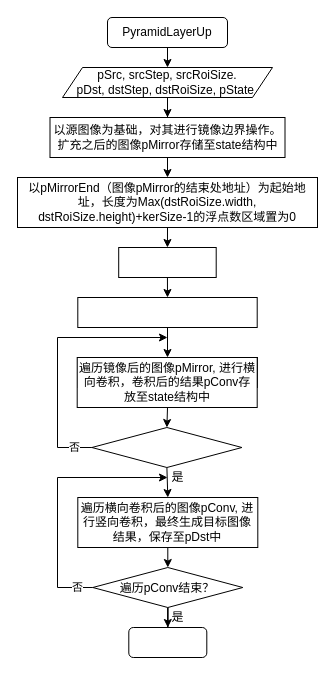
The diagram is 335 pixels wide and 675 high, and some of its shapes have lost their labels. Each missing label, with the centre of its shape:
"对coeffSum求倒数，结果记为coeffSumRec" belongs at pixel 167 312.
"结束" belongs at pixel 167 642.
"计算coeffSum" belongs at pixel 167 262.
"遍历pMirror结束？" belongs at pixel 166 447.
